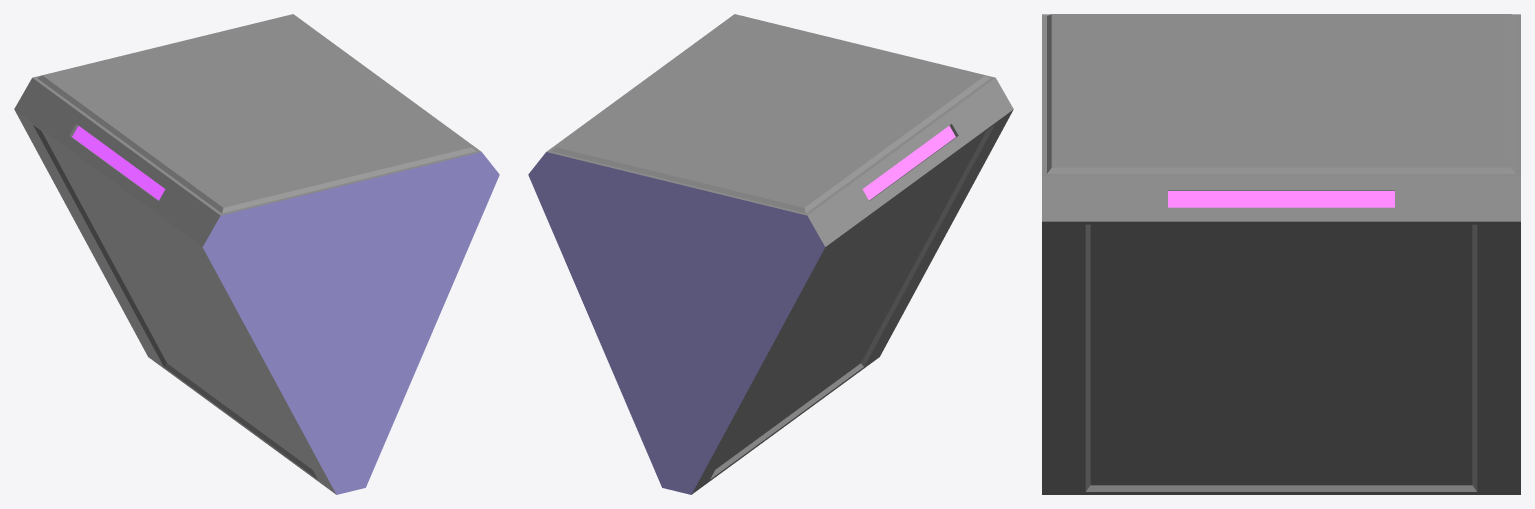
Rendered from SZ_BridgeStraight.FBX.
The picture shows the model from 3 angles, left to right: view 1: azimuth 30°, elevation 25°; view 2: azimuth 150°, elevation 25°; view 3: azimuth 270°, elevation 25°; orthographic projection. The views are drawn at different scales.
Parts seen in each view (by area): view 1: SZ_BridgeStraight; view 2: SZ_BridgeStraight; view 3: SZ_BridgeStraight.
Part boxes in pixels (x1,y1,x2,y2): SZ_BridgeStraight: (14, 14, 499, 494); SZ_BridgeStraight: (528, 14, 1013, 494); SZ_BridgeStraight: (1042, 14, 1520, 494).
Bounding box in the file's own units: 91.06 × 100 × 91.06.
